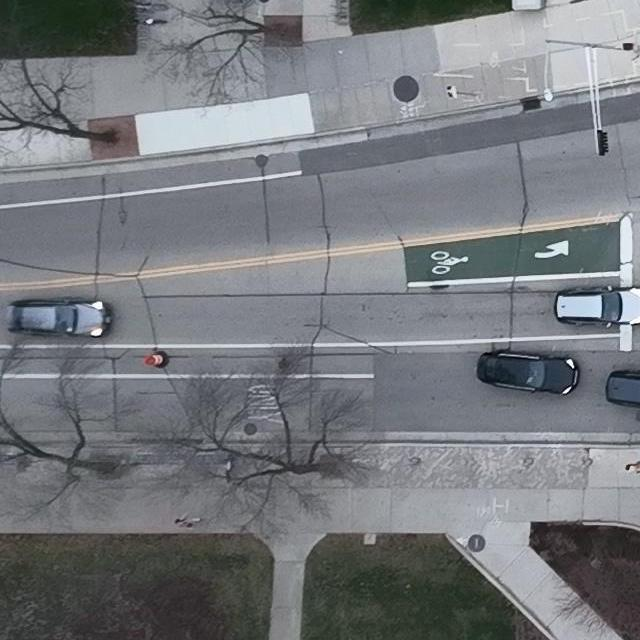car: (475, 348, 580, 397), (5, 297, 113, 339), (554, 285, 640, 329), (606, 368, 640, 407)
